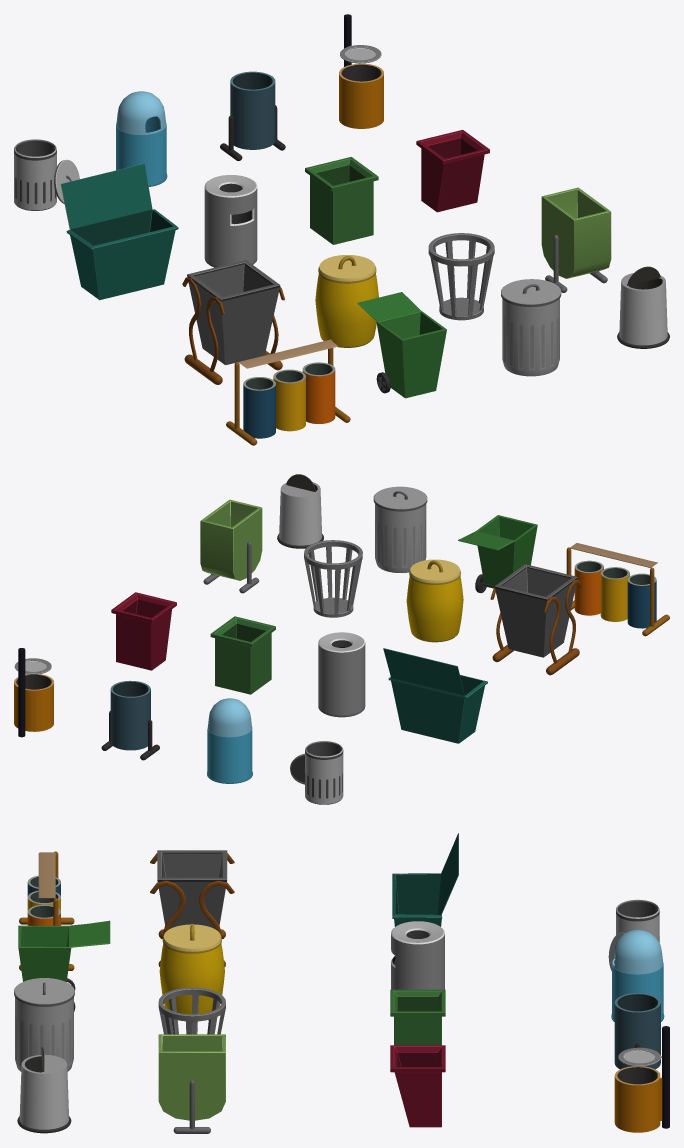
The model's file is trash_can.fbx.
3 views of the same model, one above another, from view 1: azimuth 30°, elevation 25°; view 2: azimuth 150°, elevation 25°; view 3: azimuth 270°, elevation 25° (orthographic). The views are drawn at different scales.
Visible parts, largest first — view 1: trash can5, trash can9, trash can13, trash can14, trash can12, trash can15, trash can7, trash can6, trash can8, trash can2, trash can3, trash can4 (+5 smaller); view 2: trash can9, trash can5, trash can13, trash can12, trash can15, trash can7, trash can6, trash can8, trash can2, trash can14, trash can10, trash can3 (+5 smaller); view 3: trash can12, trash can9, trash can15, trash can4, trash can8, trash can14, trash can16, trash can6, trash can5, trash can2, trash can10, trash can7 (+5 smaller).
Part boxes in pixels (x1,y1,x2,y2): trash can5: (60,163,178,300); trash can9: (182,260,284,384); trash can13: (226,339,350,445); trash can14: (357,292,446,398); trash can12: (541,187,611,292); trash can15: (501,279,561,376); trash can7: (305,157,378,244); trash can6: (204,175,257,267); trash can8: (416,130,489,212); trash can2: (116,91,167,186); trash can3: (220,71,285,160); trash can4: (339,14,383,128); trash can9: (490,564,581,675); trash can5: (383,648,487,743); trash can13: (566,543,669,636); trash can12: (200,499,262,593); trash can15: (373,486,427,572); trash can7: (210,616,275,694); trash can6: (318,632,365,717); trash can8: (111,592,176,670); trash can2: (207,698,252,783); trash can14: (458,515,537,593); trash can10: (406,576,463,642); trash can3: (101,680,159,760); trash can12: (158,1034,225,1133); trash can9: (150,850,234,966); trash can15: (14,978,74,1071); trash can4: (614,1026,669,1132); trash can8: (390,1045,445,1127); trash can14: (18,920,110,1011); trash can16: (17,1047,71,1133); trash can6: (391,921,444,989); trash can5: (392,833,458,926); trash can2: (611,929,664,1021); trash can10: (159,944,224,1014); trash can7: (390,989,445,1045).
Size of the model in its own units: 2880 by 634 by 3706.
